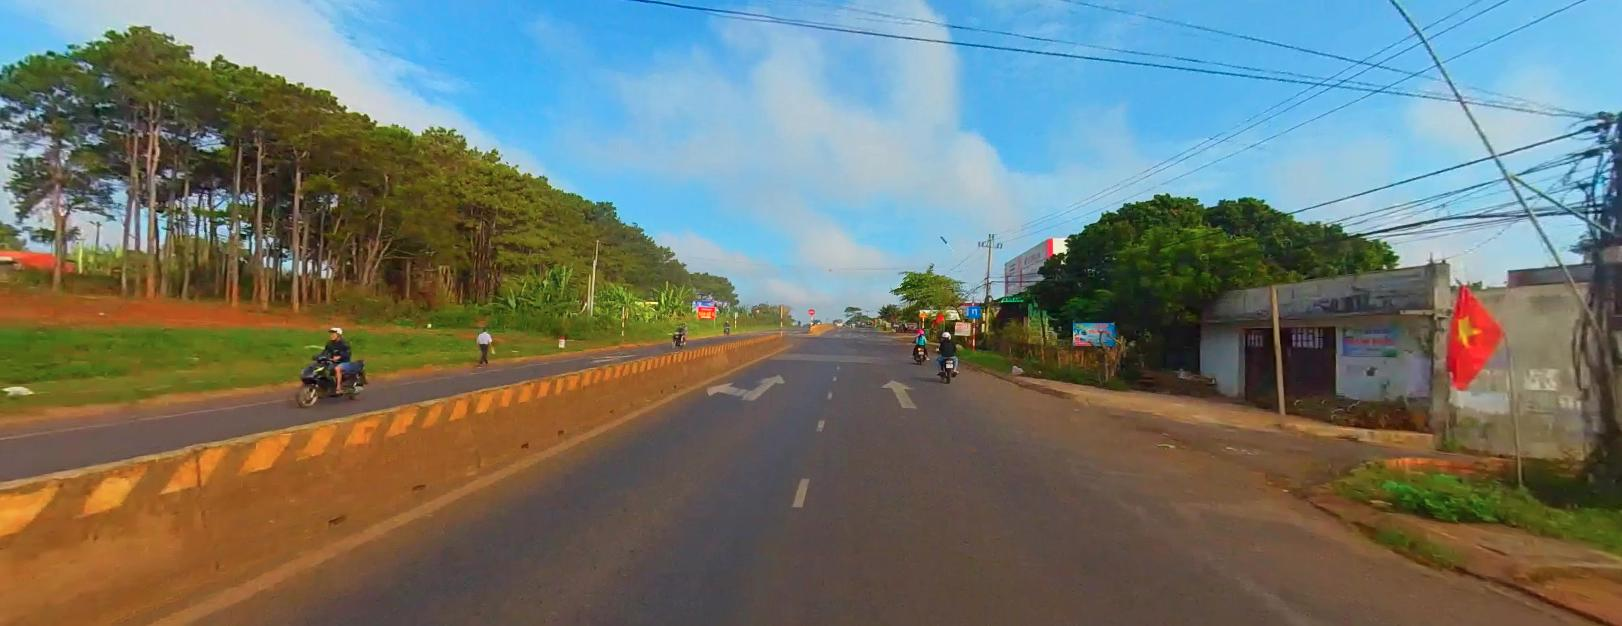Cam nguoc chieu: (807, 307, 814, 314)
Nguy hiem: (919, 309, 927, 315)
